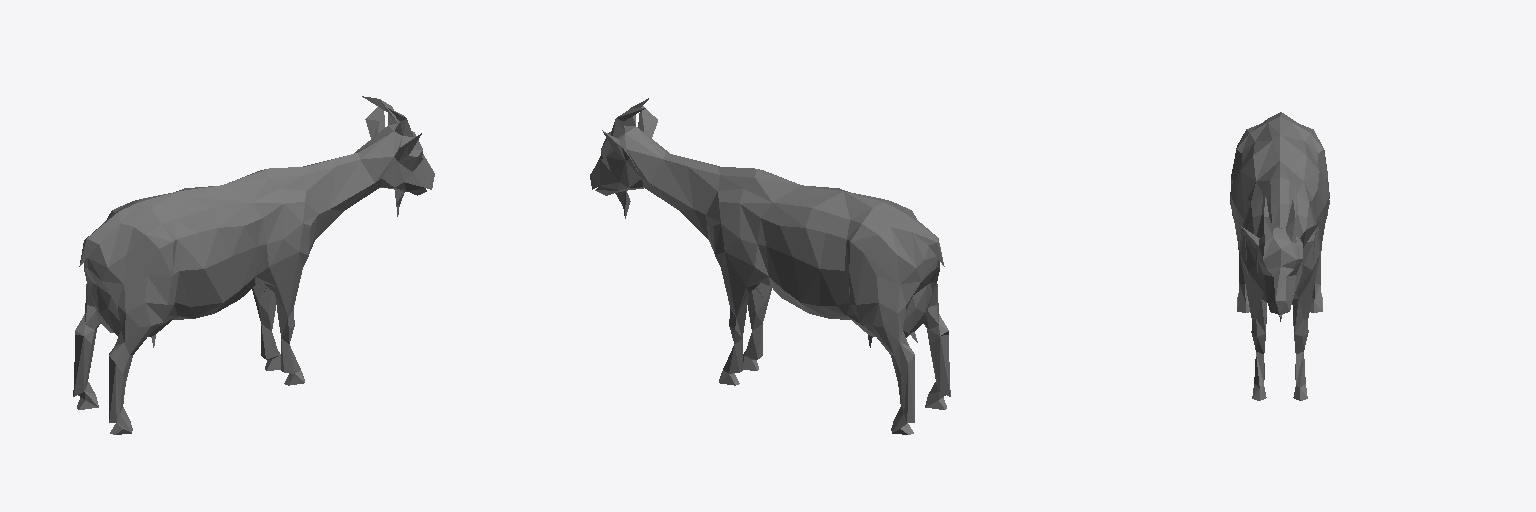
The model's file is goat.obj.
3 views of the same model, side by side, from view 1: azimuth 30°, elevation 25°; view 2: azimuth 150°, elevation 25°; view 3: azimuth 270°, elevation 25° (orthographic).
Parts seen in each view (by area): view 1: grp1; view 2: grp1; view 3: grp1.
Part boxes in pixels (x1,y1,x2,y2): grp1: (73, 96, 434, 434); grp1: (590, 98, 950, 434); grp1: (1230, 112, 1329, 400).
Size of the model in its own units: 958 by 654 by 235.